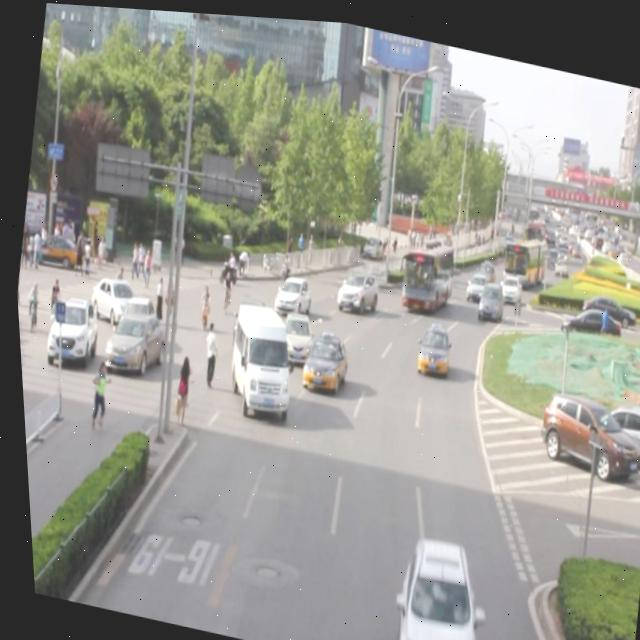car: (378, 524, 487, 640), (295, 325, 346, 388), (331, 261, 378, 309), (268, 266, 312, 316), (410, 316, 449, 372), (274, 303, 313, 357), (472, 271, 503, 317)
truck: (218, 294, 298, 407)
van: (394, 229, 454, 303)
